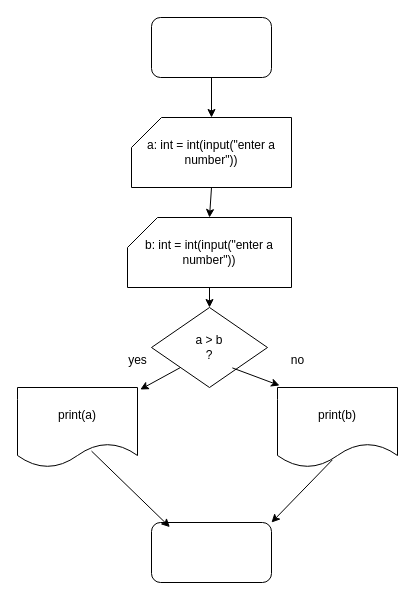
Image size: 415x600. Some labels were removed from this diagram. Each missing label, with the box of its shape:
END: (150, 522, 272, 582)
START: (150, 16, 272, 78)
